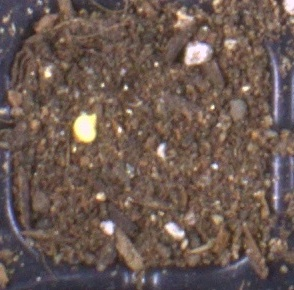chilli seed: (71, 112, 97, 143)
